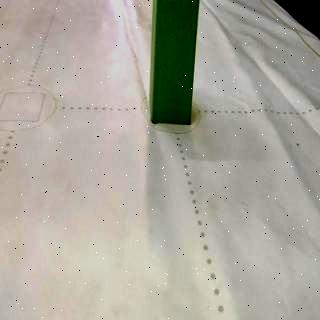greenbox: (148, 0, 202, 124)
